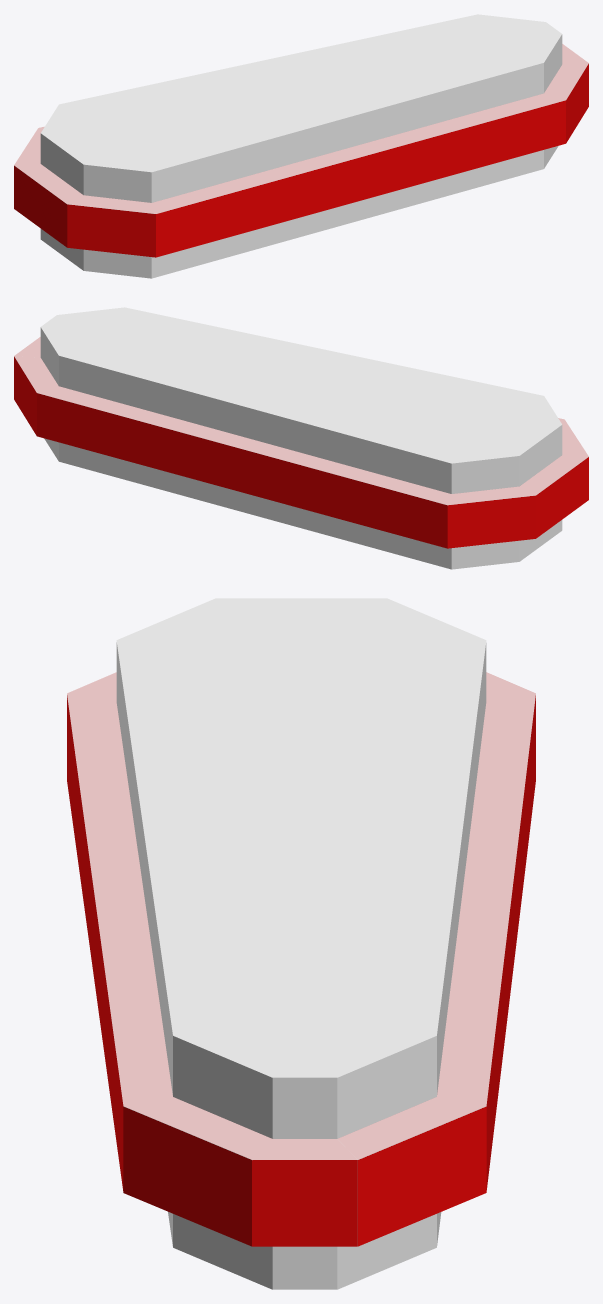
Rendered from Flipper.obj.
3 views of the same model, one above another, from view 1: azimuth 30°, elevation 25°; view 2: azimuth 150°, elevation 25°; view 3: azimuth 270°, elevation 25° (orthographic). The views are drawn at different scales.
Parts seen in each view (by area): view 1: pasted__pCube1 group7; view 2: pasted__pCube1 group7; view 3: pasted__pCube1 group7.
Boxes of the visible parts, <box> form: pasted__pCube1 group7: <box>14,14,588,278</box>; pasted__pCube1 group7: <box>14,307,588,569</box>; pasted__pCube1 group7: <box>67,598,535,1289</box>.
Size of the model in its own units: 0.3018 by 0.0572 by 0.1147.
